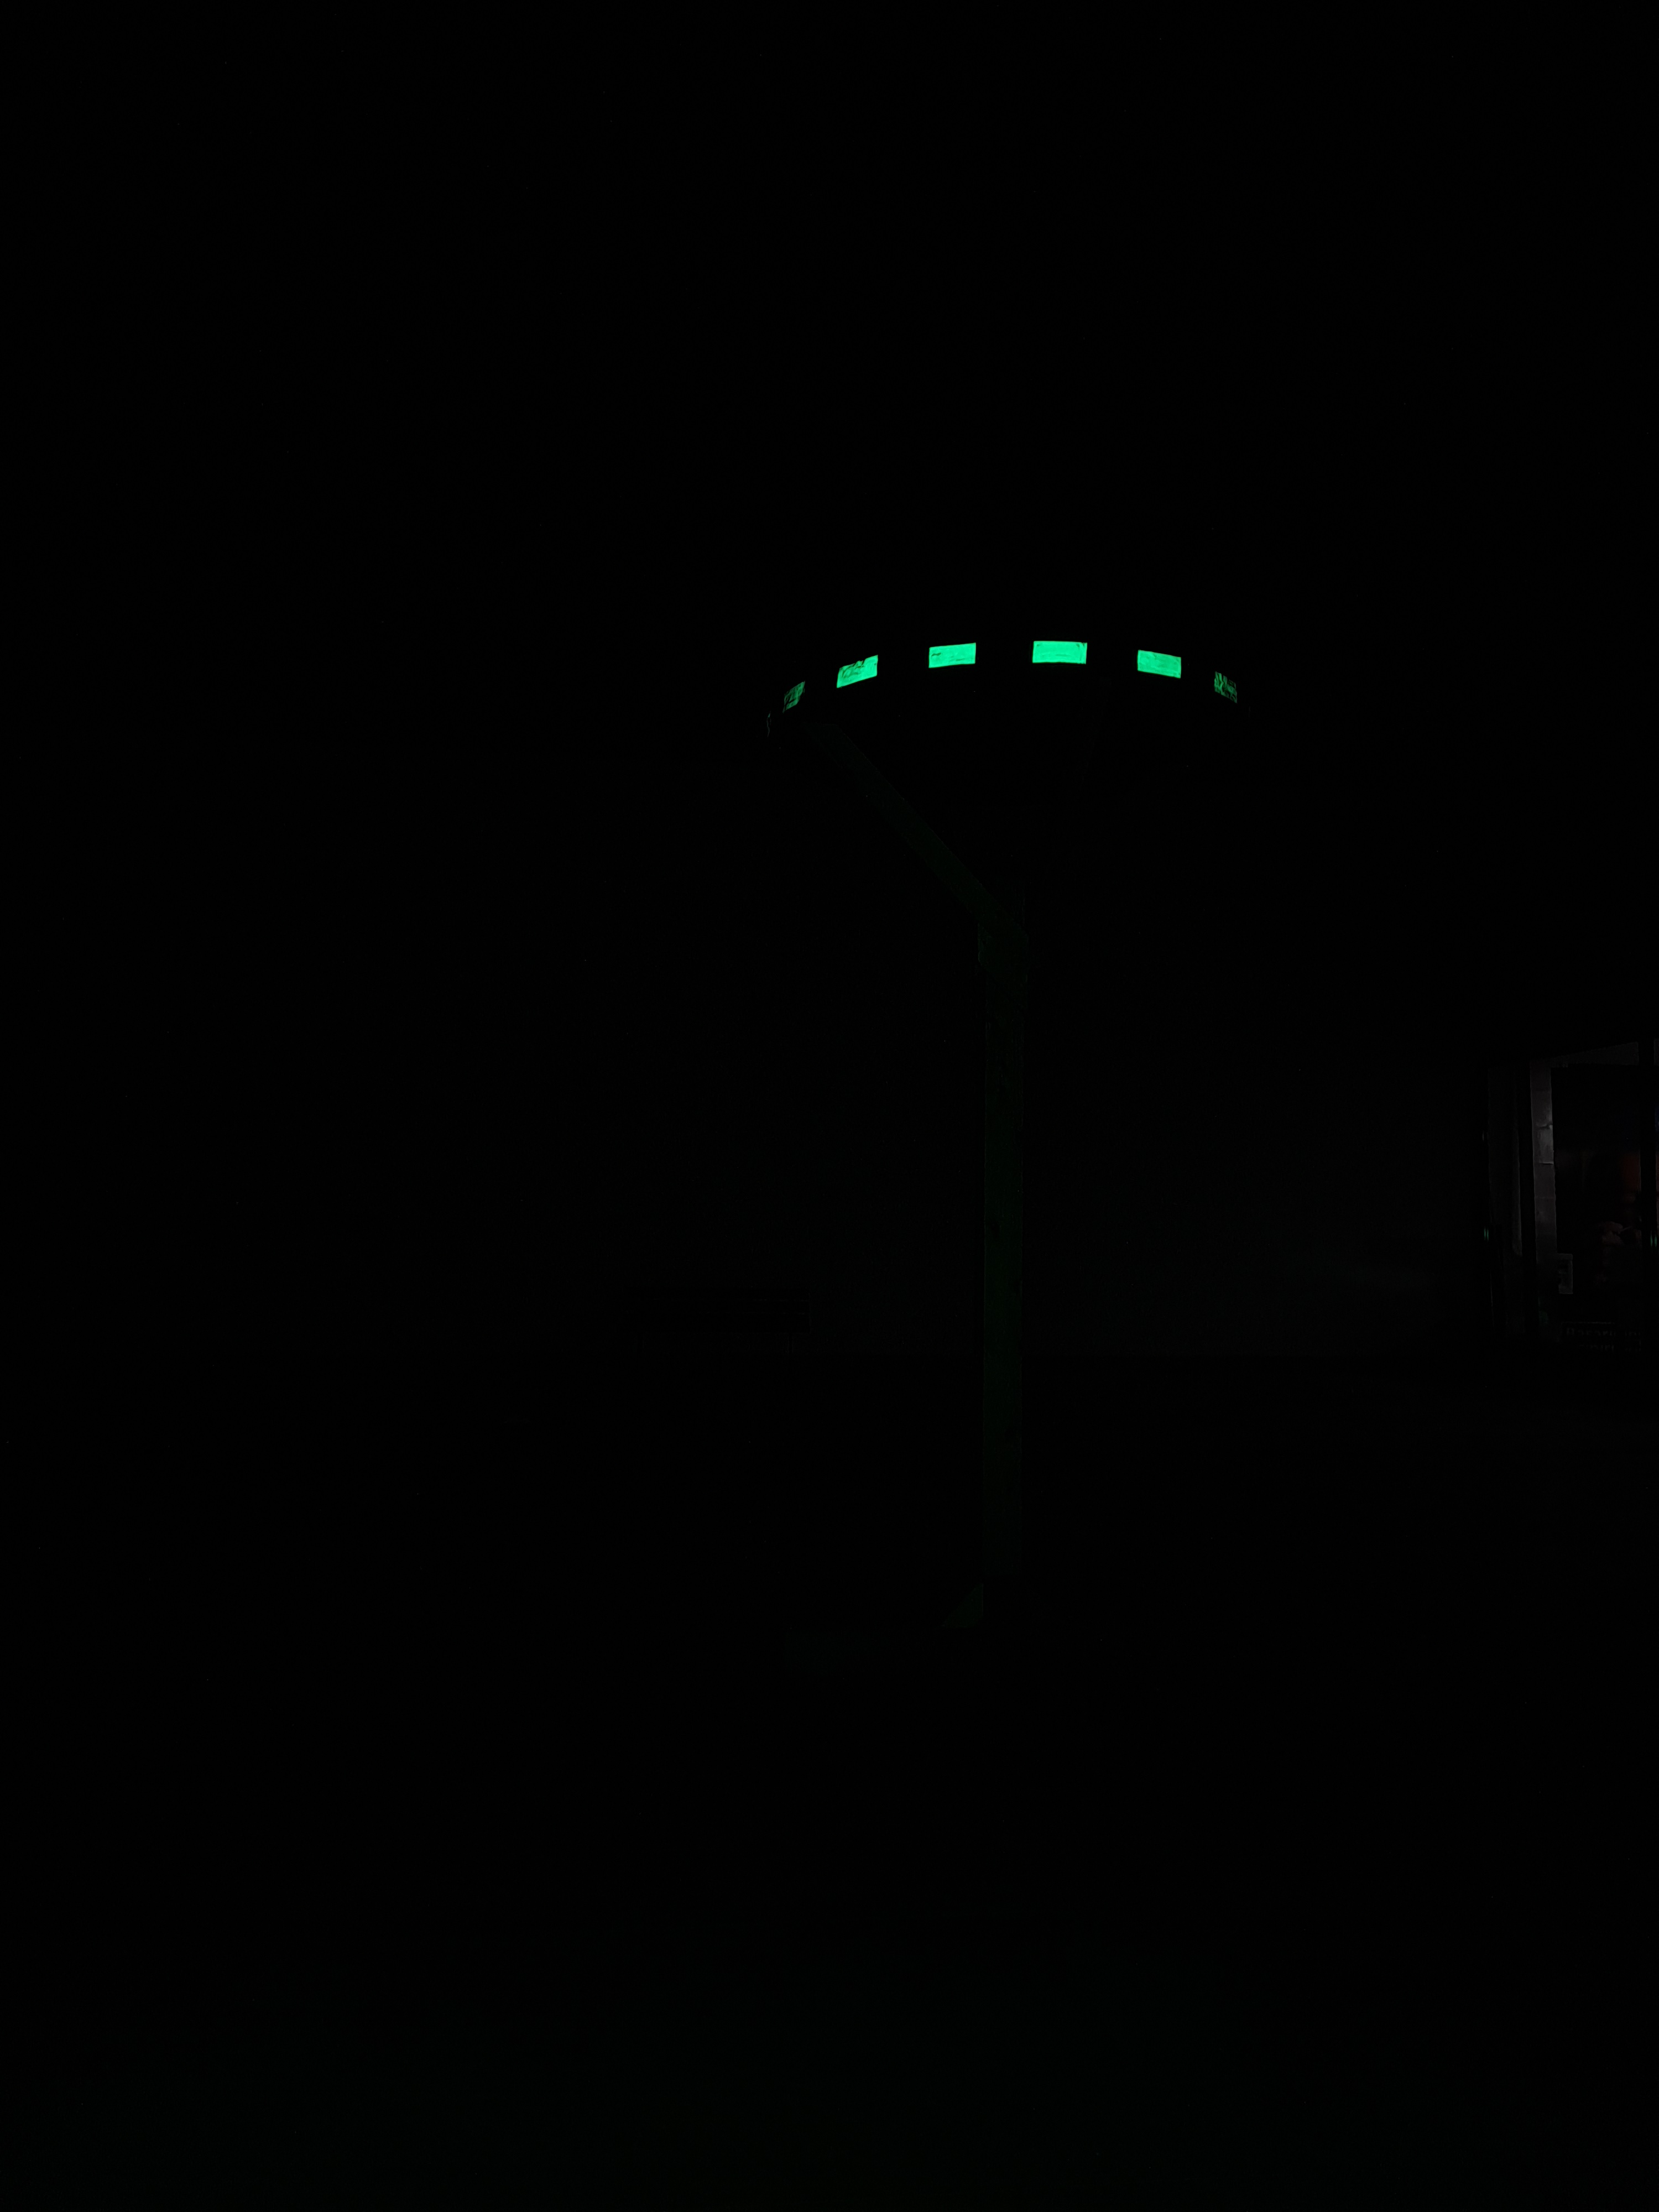hoop: (737, 613, 1265, 719)
